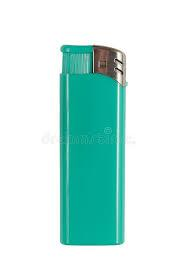lighter: (60, 42, 125, 246)
